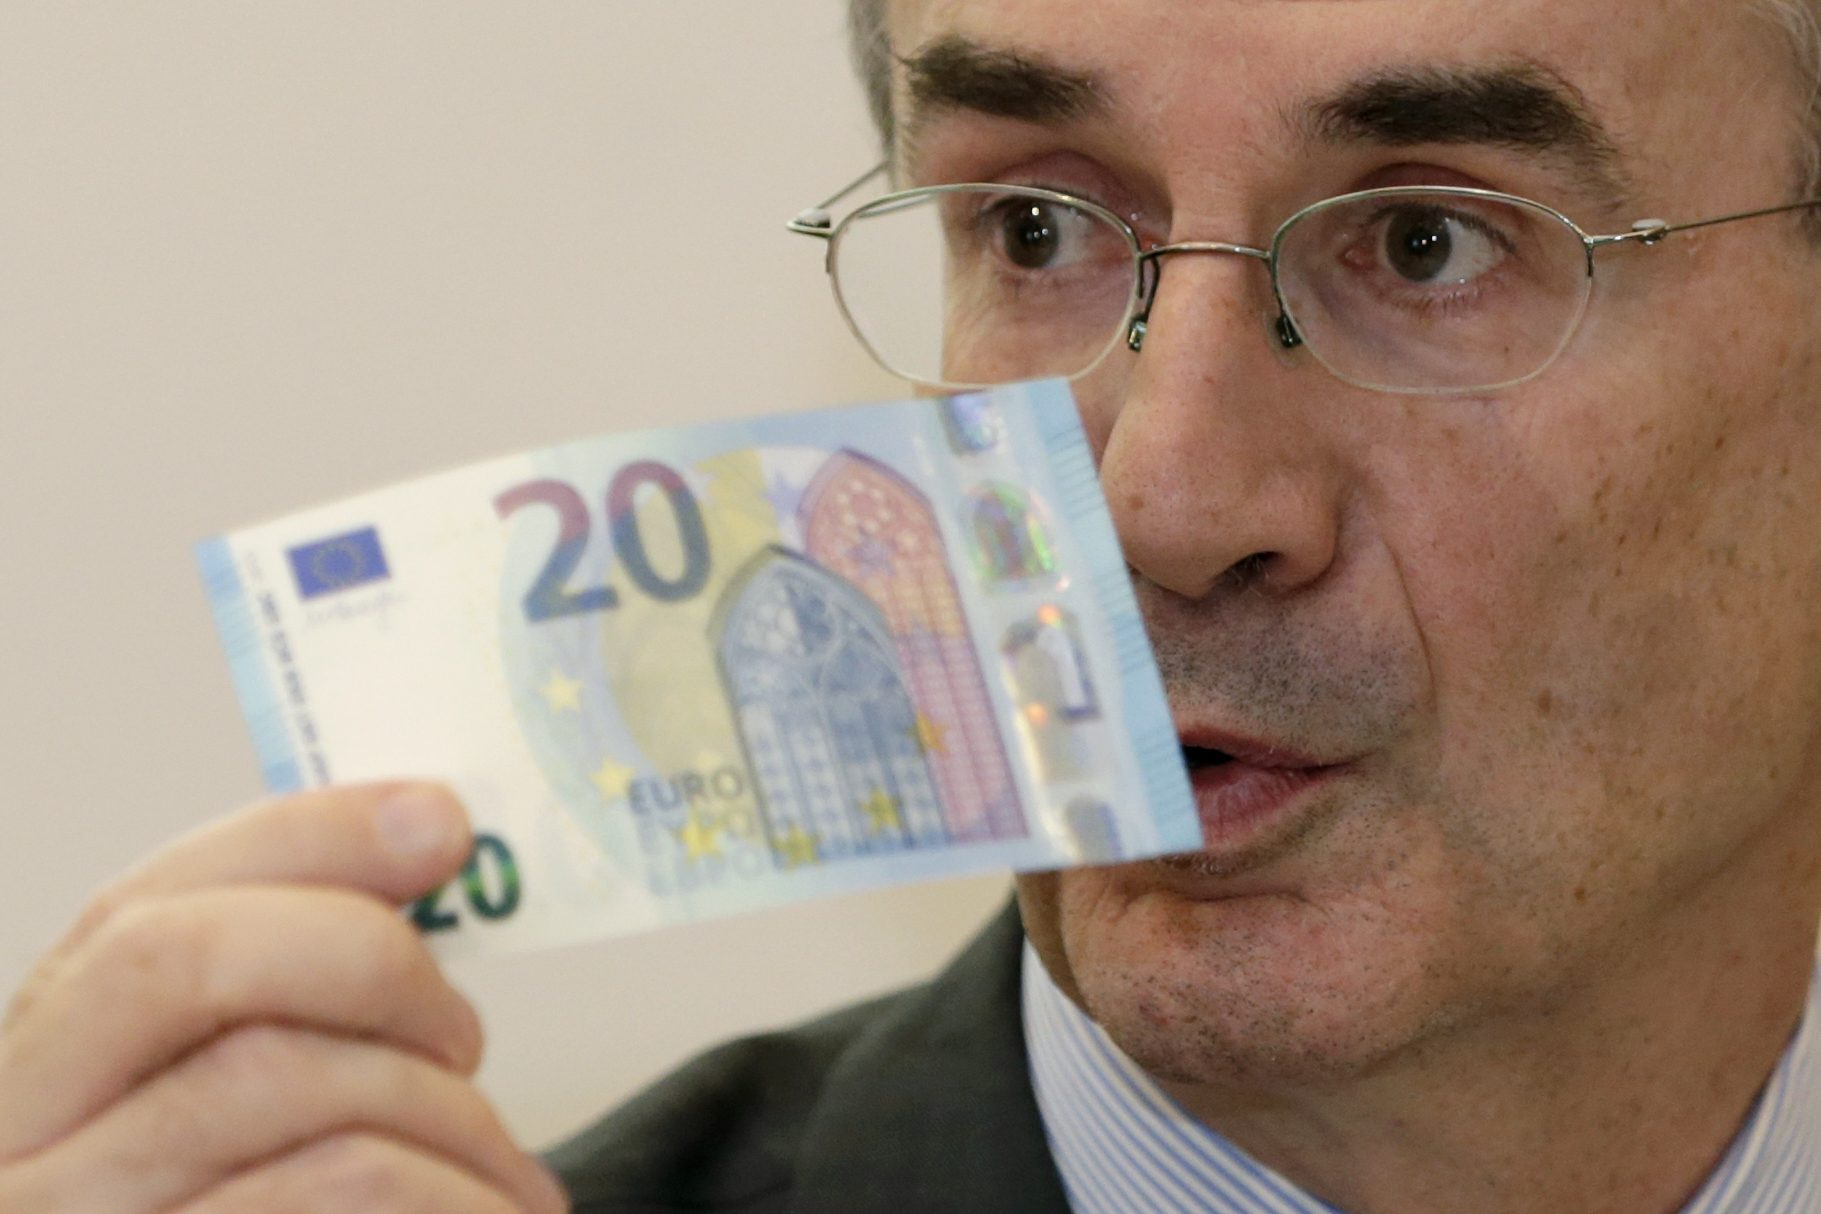billete: (192, 377, 1210, 961)
